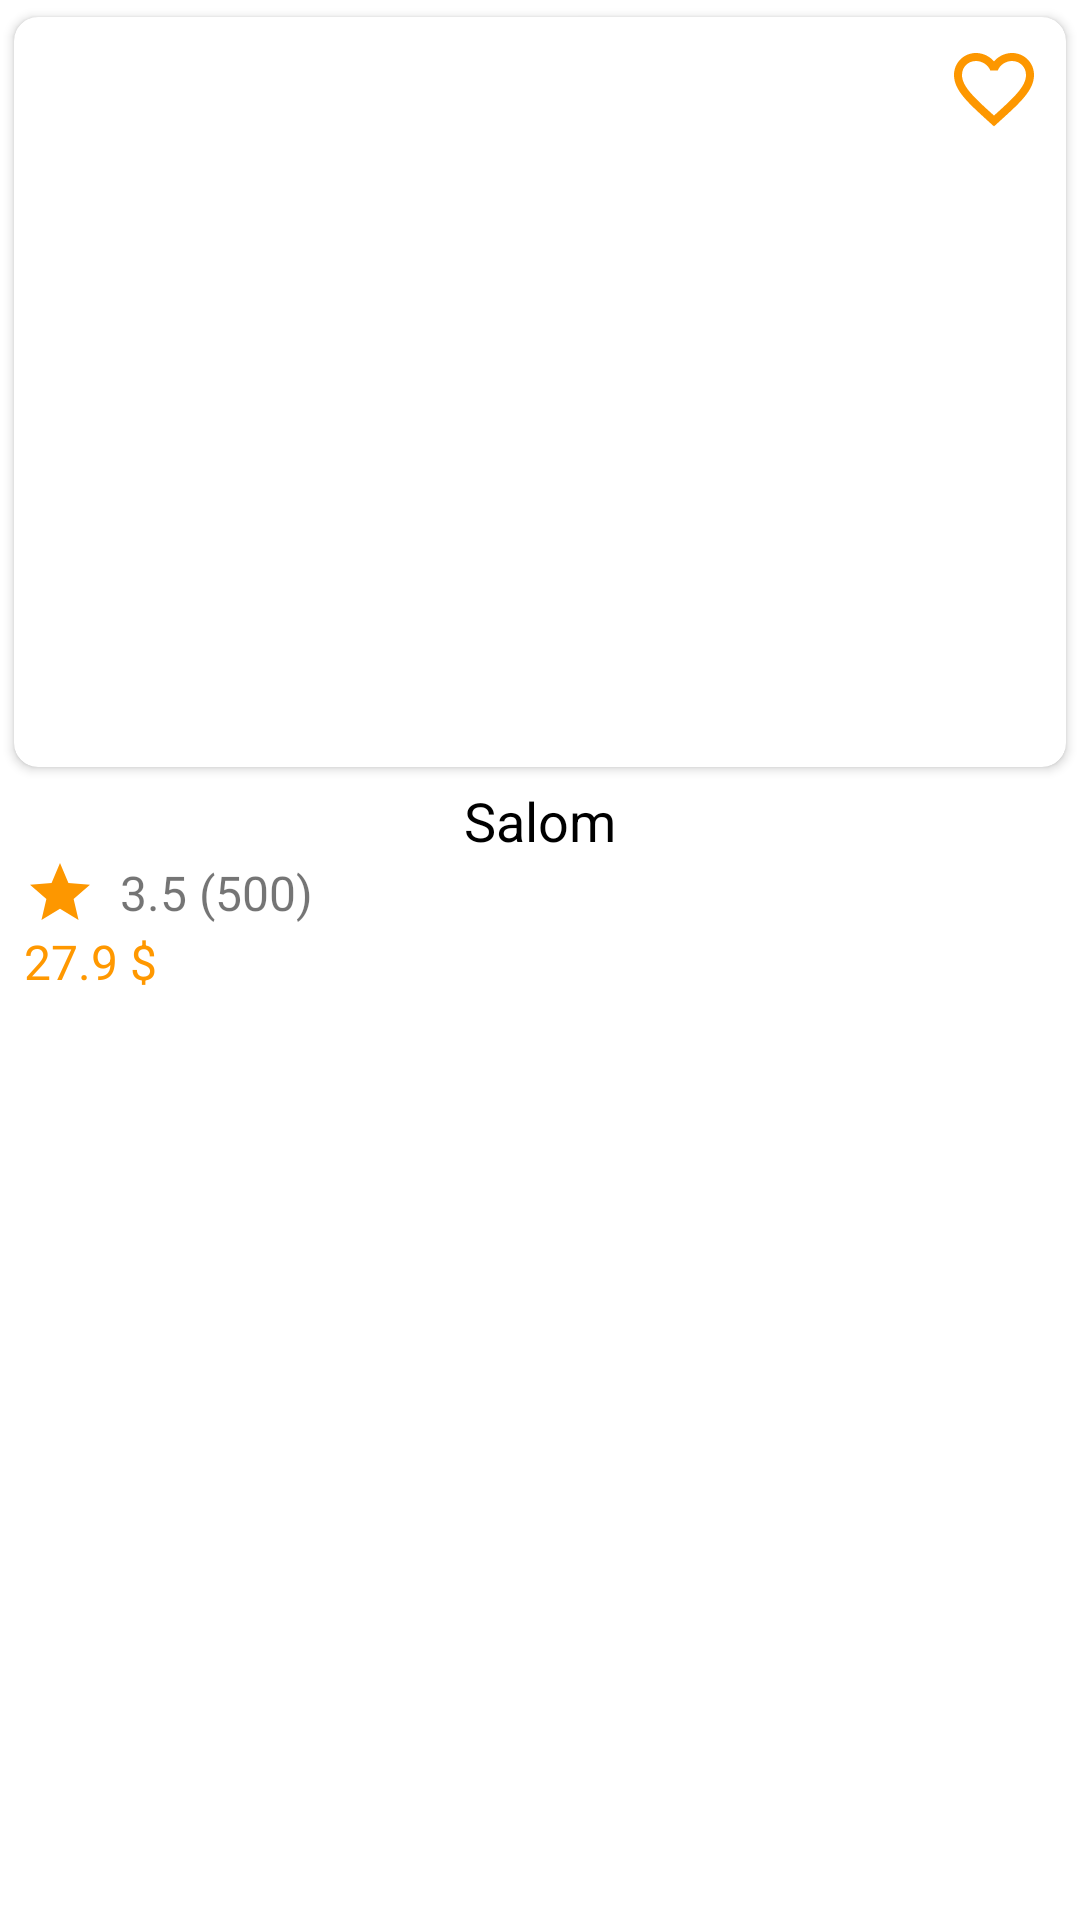

Named icons in this screenshot (1080px×1920px) and their centers, [x,y]:
favorite border: [994,89]
star: [60,891]
